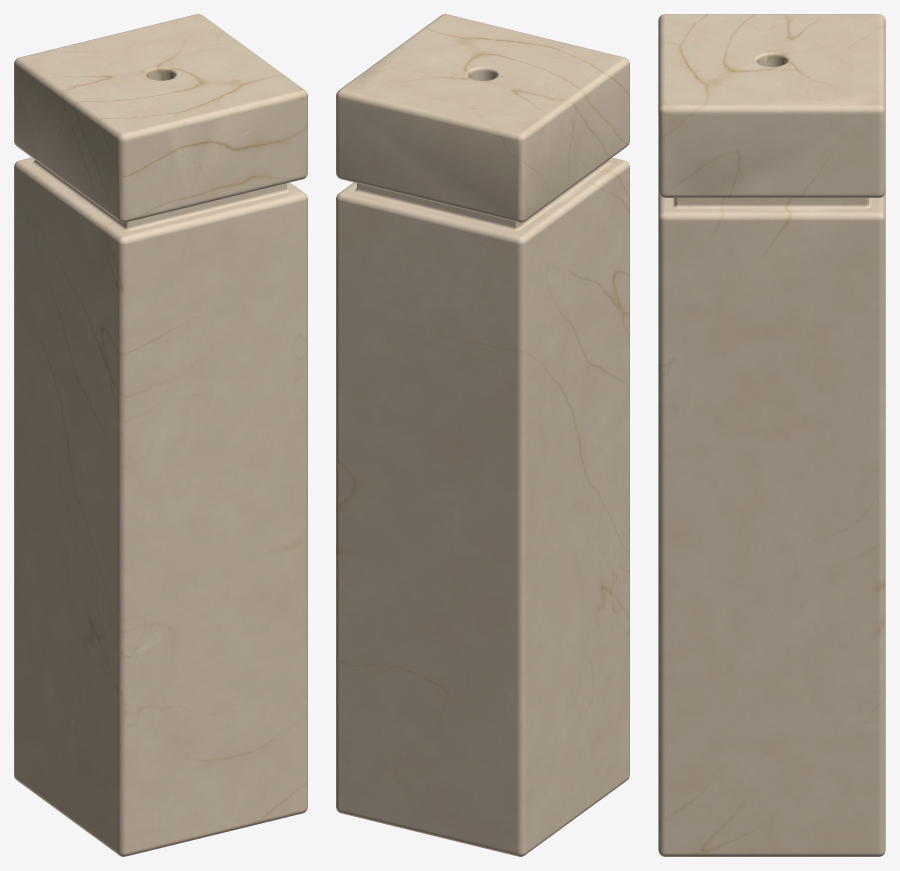
Rendered from queen-white.glb.
3 renders of one model, left to right at view 1: azimuth 30°, elevation 25°; view 2: azimuth 150°, elevation 25°; view 3: azimuth 270°, elevation 25°, orthographic. The views are drawn at different scales.
Parts seen in each view (by area): view 1: dama_bily; view 2: dama_bily; view 3: dama_bily.
Boxes of the visible parts, x1=… form: dama_bily: x1=14, y1=14, x2=307, y2=856; dama_bily: x1=336, y1=14, x2=629, y2=856; dama_bily: x1=658, y1=14, x2=885, y2=856.
Size of the model in its own units: 0.4329 by 1.58 by 0.4329.
Materials: 1 (1 with a texture image).
